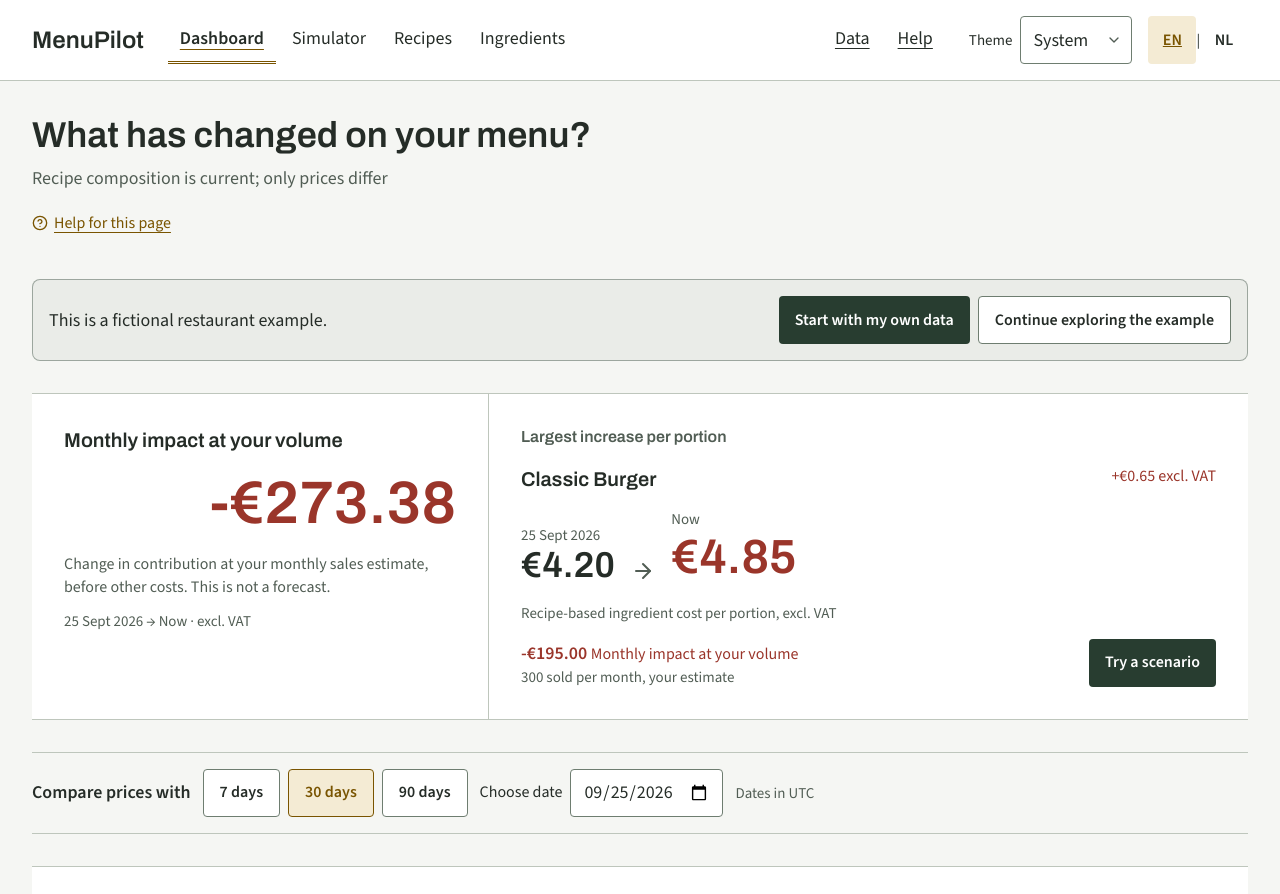
Test: marks first-run bundled demo as fictional and lets the owner dismiss the notice
Expected: the text "This is a fictional restaurant example." is shown, [49,308,327,333]
Step 1. Click the button "Continue exploring the example" → (1104, 320), box [978,296,1231,344]
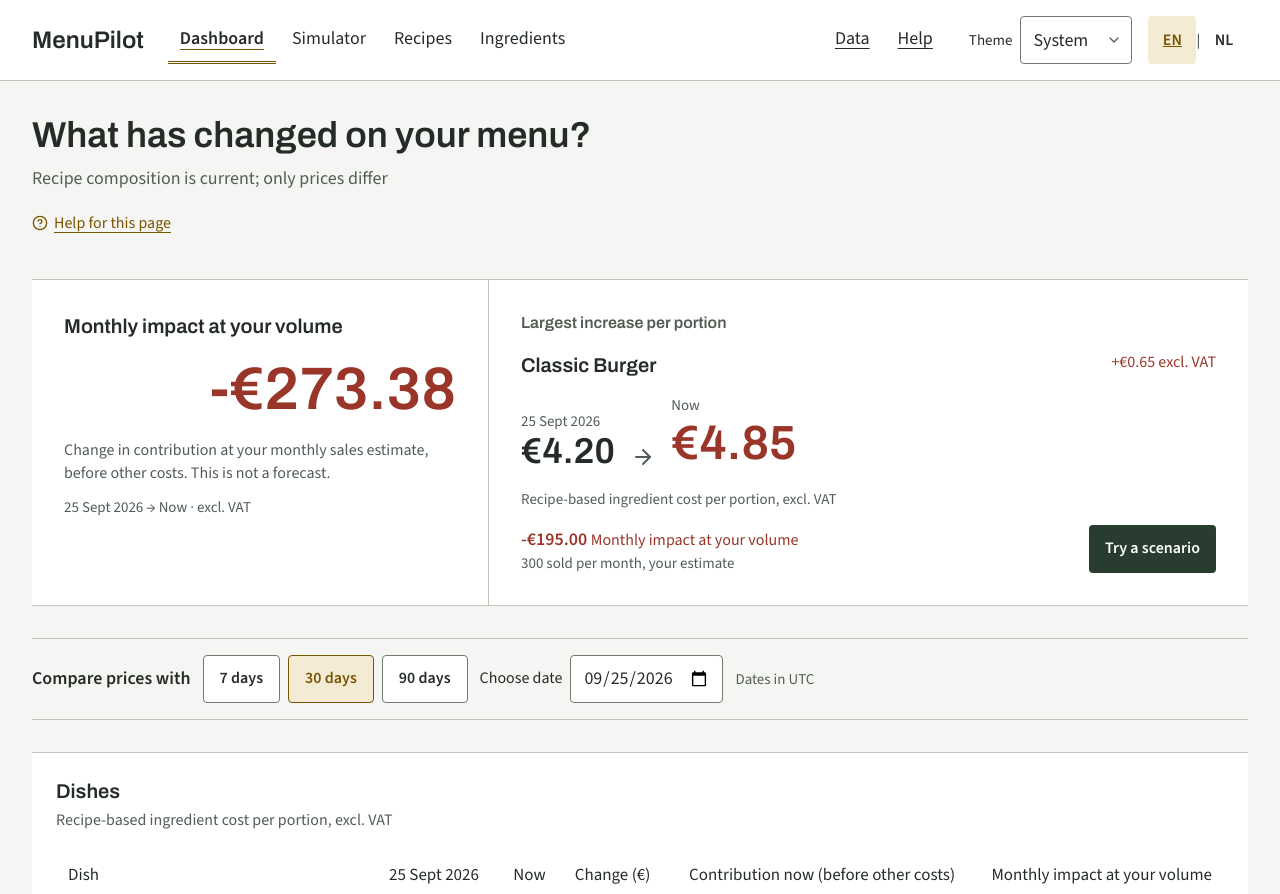
Result: the text "This is a fictional restaurant example." is gone
